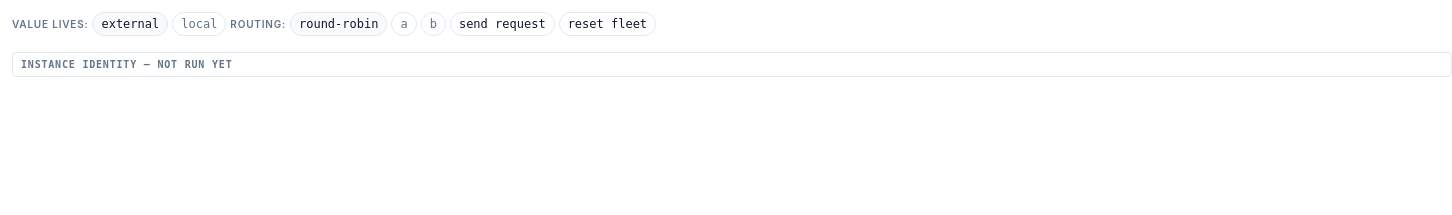
Test: StatelessDemo › renders the degraded panel when the server is down
This screenshot has width=1452, height=215.
What coordinates should you click on to do the following:
click the button with test id "scaling-send"
I would click on:
 (502, 24)
Its box is [450, 12, 555, 36].
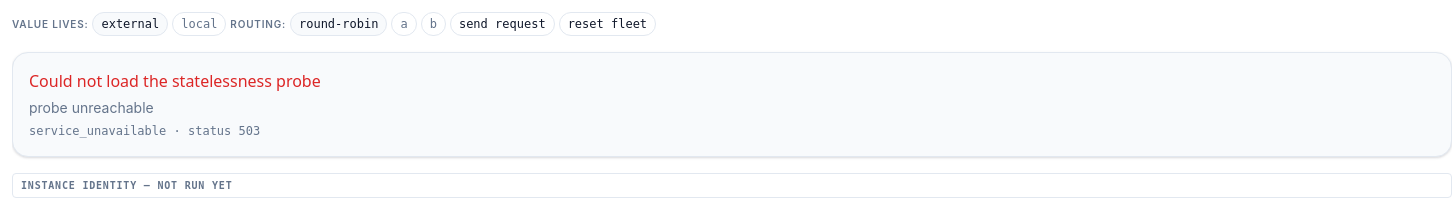
Check: the message with test id "error-panel" shows "probe unreachable", box [29, 99, 154, 116]
